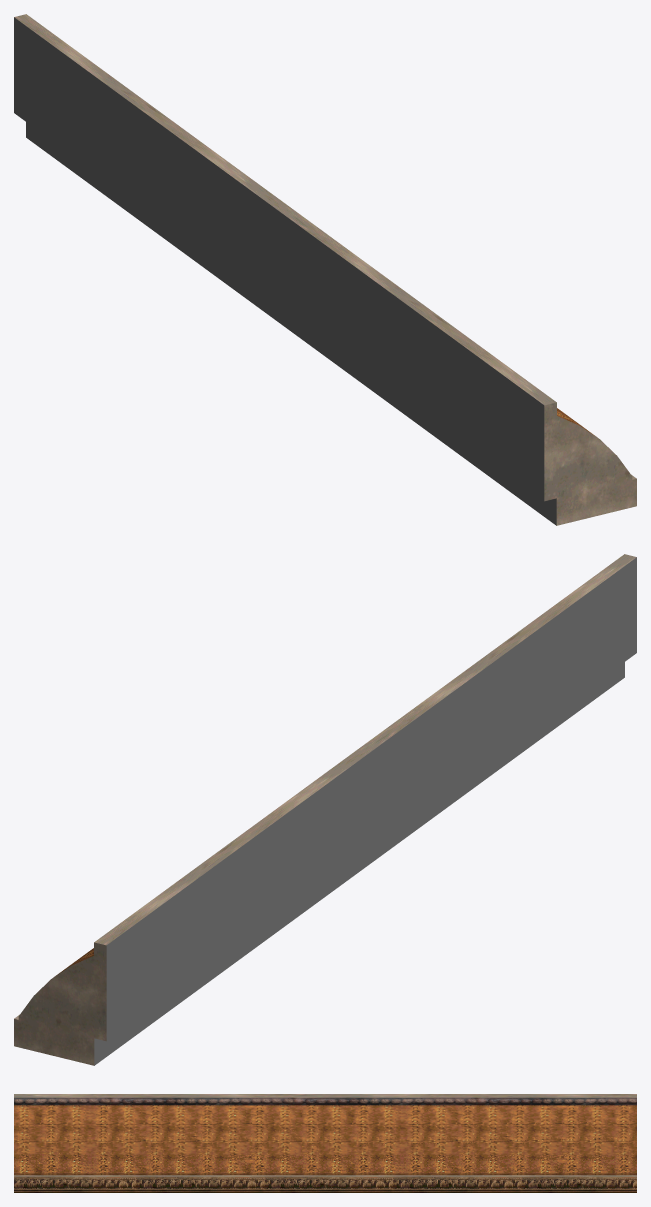
The model's file is Roof.fbx.
3 views of the same model, one above another, from view 1: azimuth 30°, elevation 25°; view 2: azimuth 150°, elevation 25°; view 3: azimuth 270°, elevation 25° (orthographic). The views are drawn at different scales.
Parts seen in each view (by area): view 1: Object007; view 2: Object007; view 3: Object007.
Part boxes in pixels (box(x1,y1,x2,y2)): Object007: box(14, 14, 636, 525); Object007: box(14, 554, 636, 1065); Object007: box(14, 1094, 636, 1192).
Size of the model in its own units: 352 by 448 by 3495.
